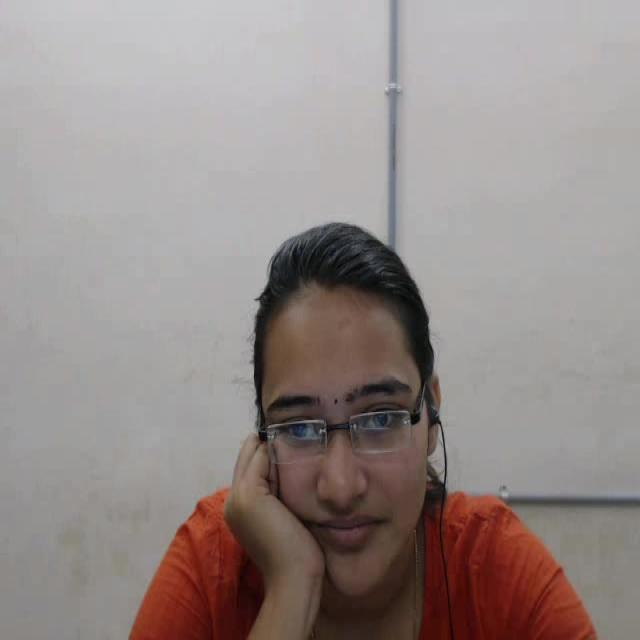Bored: (186, 181, 506, 616)
